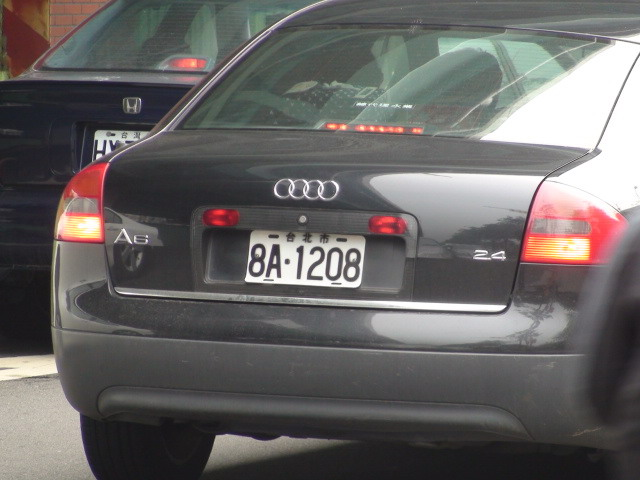plate: (239, 224, 369, 290)
